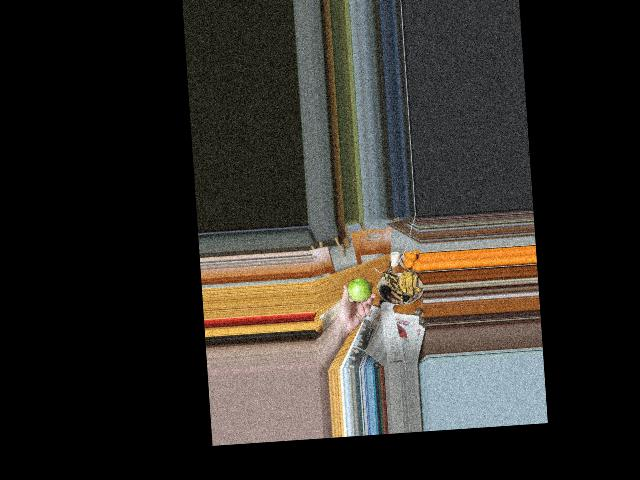apple: (347, 276, 372, 304)
